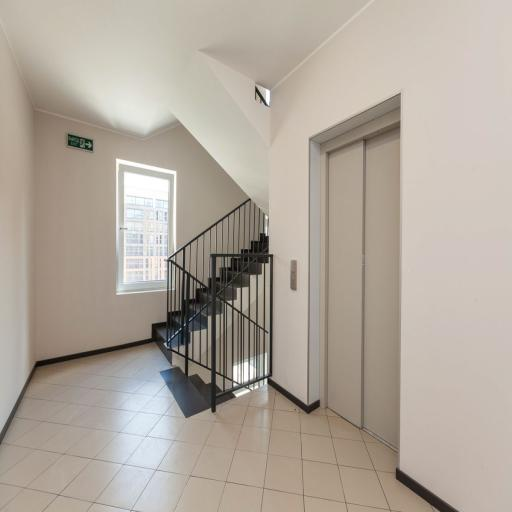crosswalk: (305, 90, 403, 458)
sofa: (153, 233, 269, 417), (216, 233, 268, 300), (161, 367, 211, 417)
